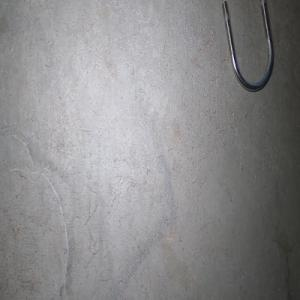ClampPart: (221, 0, 274, 92)
